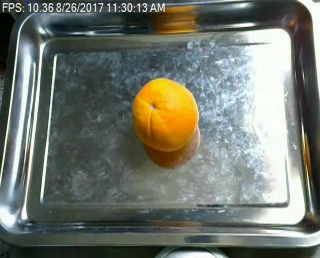Orange: (129, 76, 198, 152)
